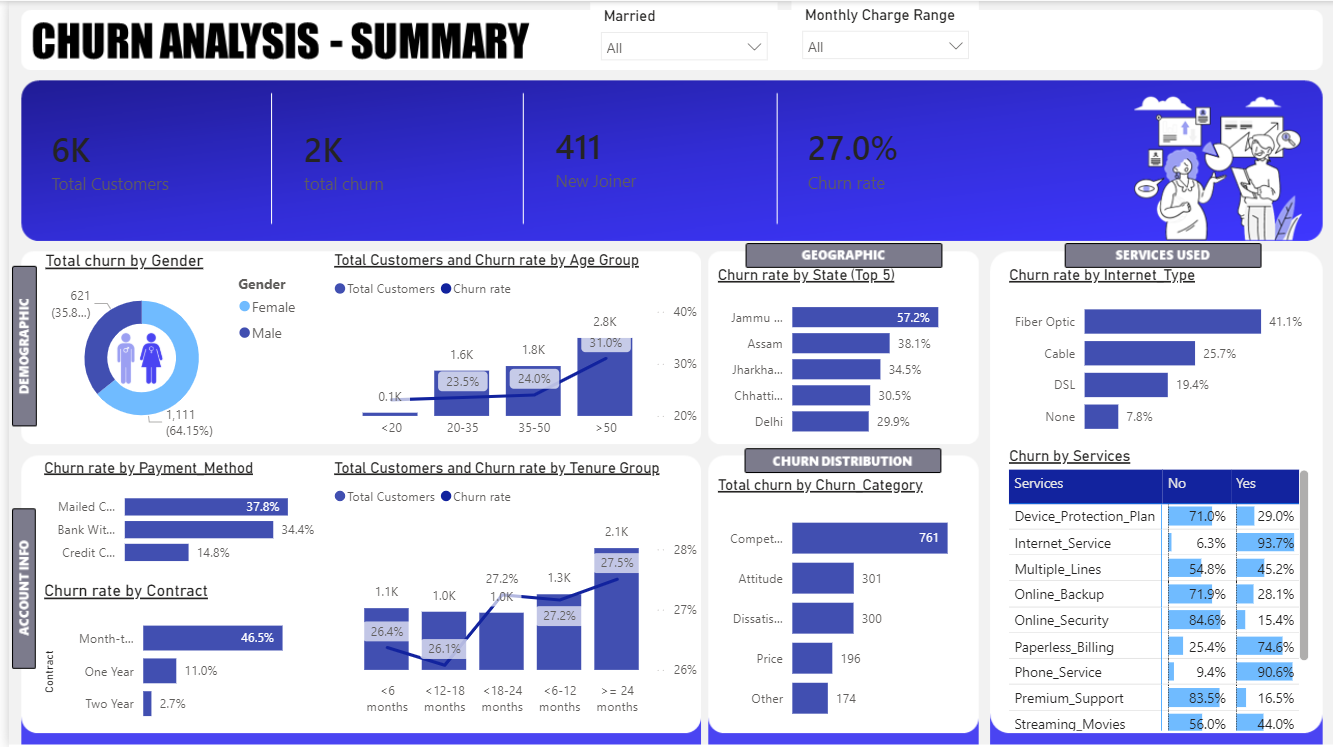

This screenshot's page, from the dashboard's own definition file:
{"tool":"powerbi","page":{"name":"Summary","canvas":[1280,720],"ordinal":0},"visuals":[{"type":"image","box":[91.9,312.9,70,63.1],"z":0},{"type":"cardVisual","fields":{"Data":["tbl -measure.Total Customers"]},"box":[12.3,78.2,242.9,150.9],"z":1000},{"type":"cardVisual","fields":{"Data":["tbl -measure.total churn"]},"box":[255.2,78.2,242.9,150.9],"z":2000},{"type":"cardVisual","fields":{"Data":["tbl -measure.New Joiner"]},"box":[498.1,74.1,244.3,155.1],"z":3000},{"type":"cardVisual","fields":{"Data":["tbl -measure.Churn rate"]},"box":[742.4,75.5,256.6,153.7],"z":4000},{"type":"donutChart","title":"Total churn by Gender","fields":{"Category":["prod_Churn.Gender"],"Y":["tbl -measure.total churn"]},"box":[30.2,241.5,262.1,189.4],"z":5000},{"type":"lineStackedColumnComboChart","fields":{"Category":["mapping_agegrp.Age Group"],"Y":["tbl -measure.Total Customers"],"Y2":["tbl -measure.Churn rate"]},"box":[308.7,241.5,360.9,189.4],"z":6000},{"type":"clusteredBarChart","fields":{"Category":["prod_Churn.Payment_Method"],"Y":["tbl -measure.Churn rate"]},"box":[28.8,441.9,279.9,113.9],"z":7000},{"type":"clusteredBarChart","fields":{"Category":["prod_Churn.Contract"],"Y":["tbl -measure.Churn rate"]},"box":[28.8,559.9,279.9,149.6],"z":8000},{"type":"lineStackedColumnComboChart","fields":{"Category":["mapping_tenuregrp.Tenure Group"],"Y":["tbl -measure.Total Customers"],"Y2":["tbl -measure.Churn rate"]},"box":[308.7,441.9,360.9,255.2],"z":9000},{"type":"clusteredBarChart","title":"Churn rate by State (Top 5)","fields":{"Category":["prod_Churn.State"],"Y":["tbl -measure.Churn rate"]},"box":[679.2,255.2,256.6,175.6],"z":10000},{"type":"clusteredBarChart","title":"Total churn by Churn_Category","fields":{"Category":["prod_Churn.Churn_Category"],"Y":["tbl -measure.total churn"]},"box":[679.2,458.3,256.6,251.1],"z":11000},{"type":"clusteredBarChart","fields":{"Category":["prod_Churn.Internet_Type"],"Y":["tbl -measure.Churn rate"]},"box":[960.6,255.2,299.1,175.6],"z":12000},{"type":"pivotTable","title":"Churn by Services","fields":{"Rows":["Prod_services.Services"],"Columns":["Prod_services.Status"],"Values":["Sum(Prod_services.Churn status)"]},"box":[960.6,430.9,299.1,278.6],"z":13000},{"type":"slicer","fields":{"Values":["prod_Churn.Monthly Charge Status"]},"box":[754.7,0,181.1,60.4],"z":14000},{"type":"slicer","fields":{"Values":["prod_Churn.Married"]},"box":[560.9,1.4,180.9,60.3],"z":15000}]}

Visuals, with their boxes in screenshot pixels (x1, y1, x2, y2), scaled from the page's 1280x720 canvas onto the 1333x747 screenshot:
image: bbox=(96, 325, 169, 390)
cardVisual - tbl -measure.Total Customers: bbox=(13, 81, 266, 238)
cardVisual - tbl -measure.total churn: bbox=(266, 81, 519, 238)
cardVisual - tbl -measure.New Joiner: bbox=(519, 77, 773, 238)
cardVisual - tbl -measure.Churn rate: bbox=(773, 78, 1040, 238)
"Total churn by Gender" donutChart: bbox=(31, 251, 304, 447)
lineStackedColumnComboChart - mapping_agegrp.Age Group x tbl -measure.Total Customers: bbox=(321, 251, 697, 447)
clusteredBarChart - prod_Churn.Payment_Method x tbl -measure.Churn rate: bbox=(30, 458, 321, 577)
clusteredBarChart - prod_Churn.Contract x tbl -measure.Churn rate: bbox=(30, 581, 321, 736)
lineStackedColumnComboChart - mapping_tenuregrp.Tenure Group x tbl -measure.Total Customers: bbox=(321, 458, 697, 723)
"Churn rate by State (Top 5)" clusteredBarChart: bbox=(707, 265, 975, 447)
"Total churn by Churn_Category" clusteredBarChart: bbox=(707, 475, 975, 736)
clusteredBarChart - prod_Churn.Internet_Type x tbl -measure.Churn rate: bbox=(1000, 265, 1312, 447)
"Churn by Services" pivotTable: bbox=(1000, 447, 1312, 736)
slicer - prod_Churn.Monthly Charge Status: bbox=(786, 0, 975, 63)
slicer - prod_Churn.Married: bbox=(584, 1, 773, 64)
